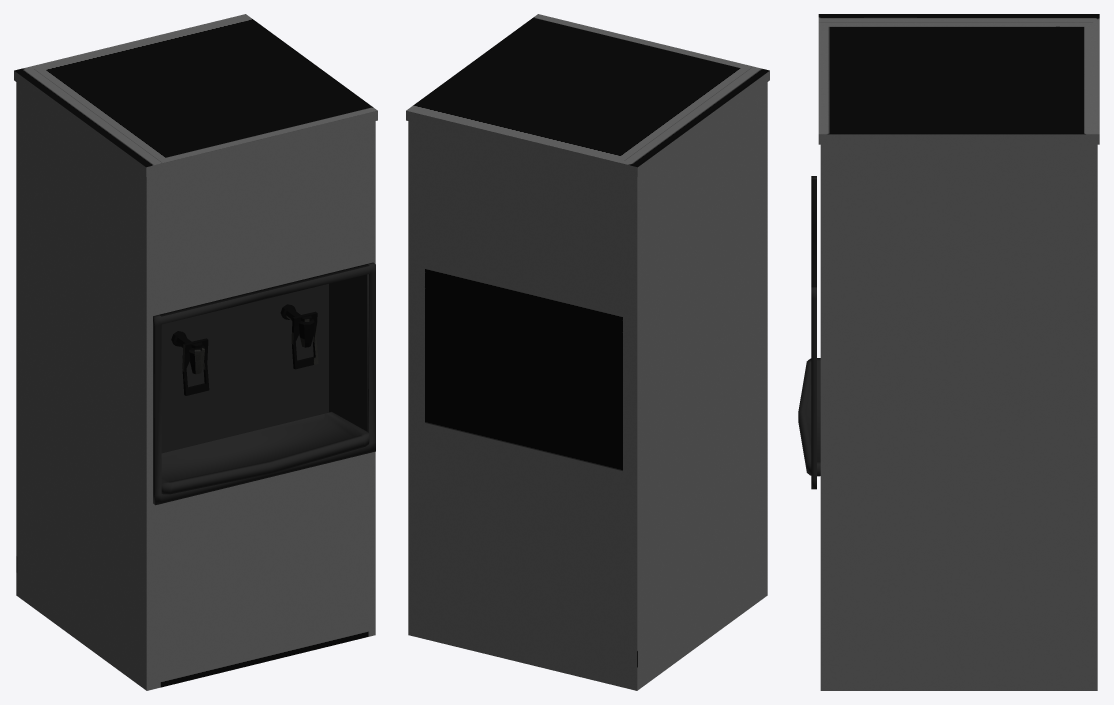
The model's file is BEBEDOURO.fbx.
3 views of the same model, side by side, from view 1: azimuth 30°, elevation 25°; view 2: azimuth 150°, elevation 25°; view 3: azimuth 270°, elevation 25° (orthographic). The views are drawn at different scales.
Parts seen in each view (by area): view 1: METAL DO BEBEDOURO, PRATO DO BEBEDOURO, TORNEIRA; view 2: METAL DO BEBEDOURO; view 3: METAL DO BEBEDOURO, PRATO DO BEBEDOURO.
Part boxes in pixels (<box>): METAL DO BEBEDOURO: <box>14,14,377,690</box>; PRATO DO BEBEDOURO: <box>153,262,375,505</box>; TORNEIRA: <box>171,304,318,395</box>; METAL DO BEBEDOURO: <box>406,14,769,690</box>; METAL DO BEBEDOURO: <box>818,14,1099,690</box>; PRATO DO BEBEDOURO: <box>798,176,820,489</box>.
Bounding box in the file's own units: 3.27 × 7.08 × 3.46.
4 materials, 3 textured.
